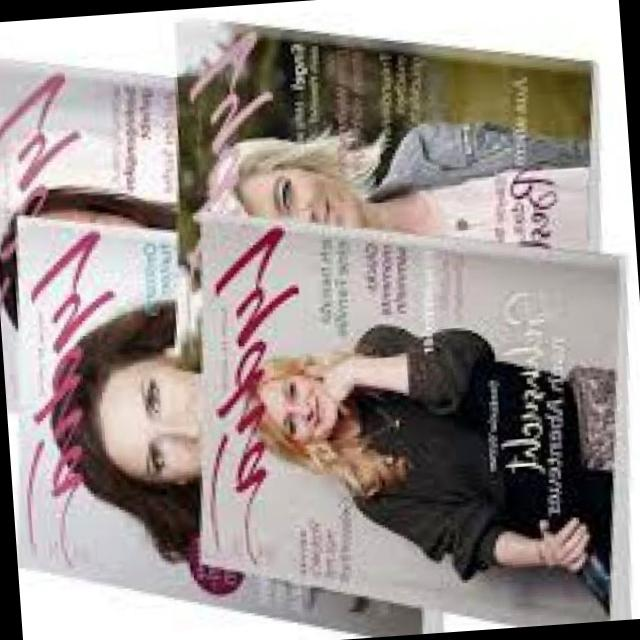cardboard paper: (0, 25, 614, 636), (197, 212, 614, 626)
